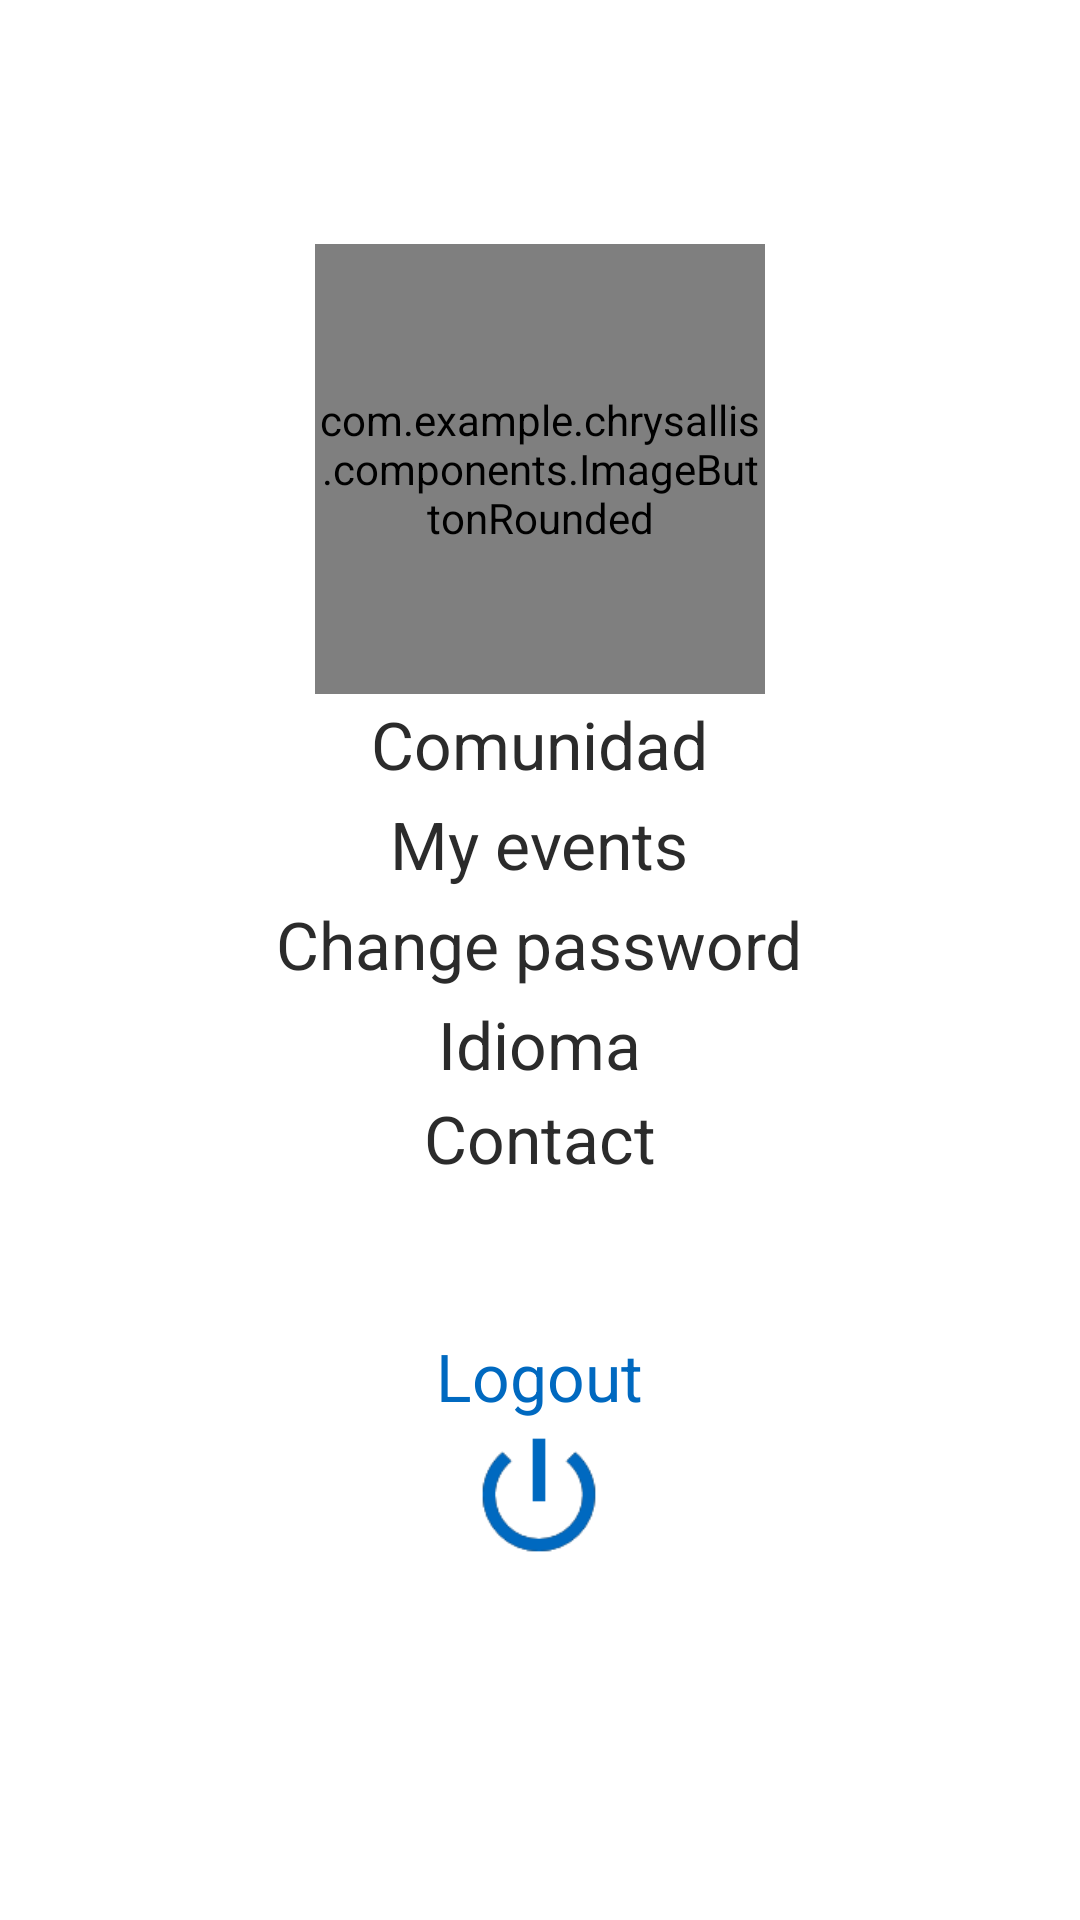

Named icons in this screenshot (1080x1920) and their centers, (x,y):
power off: (539,1495)
